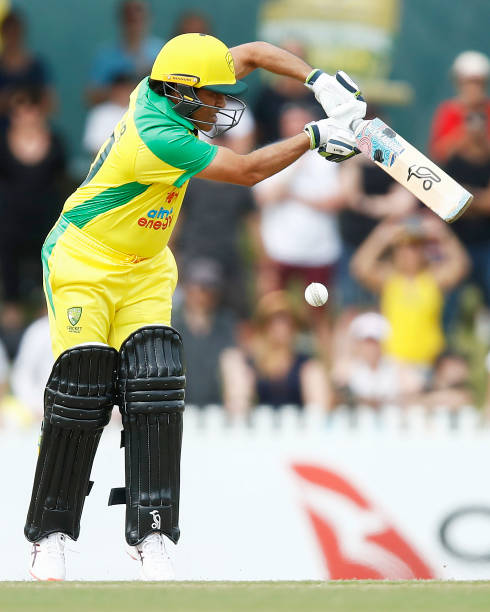bottom left: (458, 182, 482, 209)
bottom right: (433, 201, 459, 230)
top left: (367, 107, 394, 130)
top right: (344, 133, 369, 156)
